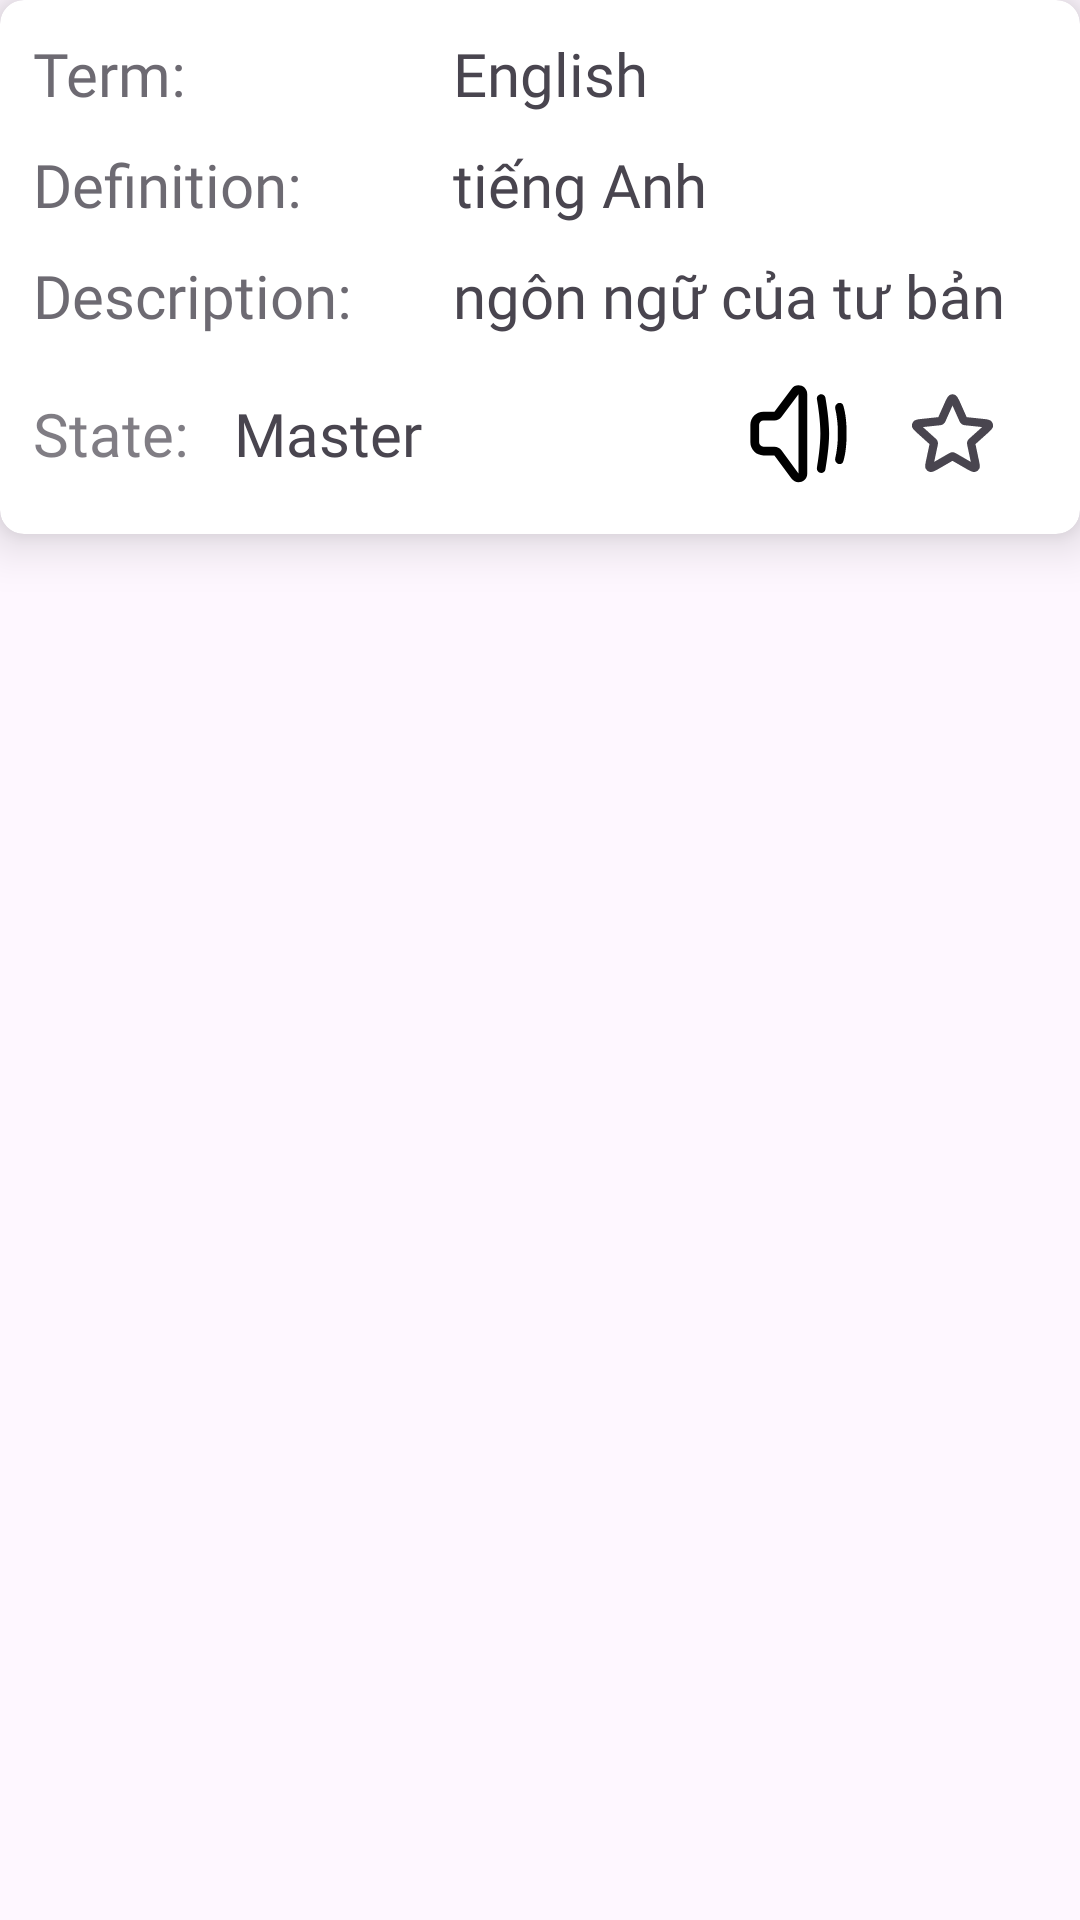

Screen size 1080*1920. Icon name, then its center in pixels as point (x, y):
sound: point (798, 434)
star custome checkbox: point (952, 433)
